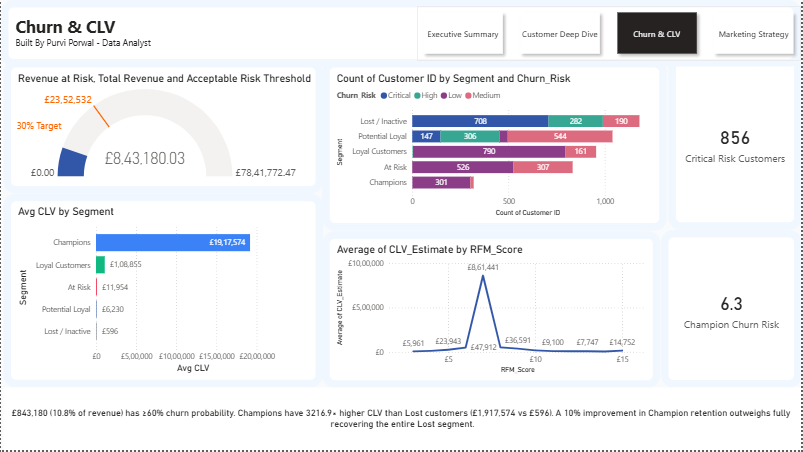

Layout of this report page (visuals, bound fields, positions):
{"tool":"powerbi","page":{"name":"Churn & CLV","canvas":[1280,720],"ordinal":2},"visuals":[{"type":"gauge","fields":{"Y":["Customer_RFM.Revenue at Risk"],"MaxValue":["Customer_RFM.Total Revenue"],"TargetValue":["Churn_Risk.Acceptable Risk Threshold"]},"box":[3.7,96.6,511.1,214],"z":0},{"type":"clusteredBarChart","fields":{"Y":["Customer_RFM.Avg CLV"],"Category":["Customer_RFM.Segment"]},"box":[3.7,310.6,511.1,309.4],"z":1000},{"type":"barChart","fields":{"Category":["Customer_RFM.Segment"],"Y":["CountNonNull(Customer_RFM.Customer ID)"],"Series":["Customer_RFM.Churn_Risk"]},"box":[514.8,96.6,551.5,272.7],"z":2000},{"type":"card","fields":{"Values":["Churn_Risk.Critical Risk Customers"]},"box":[1067.1,90.3,213.1,277.8],"z":3000},{"type":"lineChart","fields":{"Category":["Customer_RFM.RFM_Score"],"Y":["Avg(Customer_RFM.CLV_Estimate)"]},"box":[514.8,369.3,540.5,250.7],"z":4000},{"type":"textbox","box":[0,0,1280.3,106.4],"z":5000},{"type":"pageNavigator","box":[666.4,9.8,613.9,86.8],"z":6000},{"type":"card","fields":{"Values":["Churn_Risk.Avg Champion Churn %"]},"box":[1055.1,368.2,225,252.3],"z":7000},{"type":"textbox","box":[20.5,185.8,88.6,34.1],"z":8000},{"type":"card","fields":{"Values":["Churn_Risk.Insight_Page3"]},"box":[3.7,620,1276.6,100.3],"z":9000}]}

Visuals, with their boxes in screenshot pixels (x1, y1, x2, y2), scaled from the page's 1280x720 canvas onto the 803x452 screenshot:
gauge - Customer_RFM.Revenue at Risk x Customer_RFM.Total Revenue: <bbox>2, 61, 323, 195</bbox>
clusteredBarChart - Customer_RFM.Avg CLV x Customer_RFM.Segment: <bbox>2, 195, 323, 389</bbox>
barChart - Customer_RFM.Segment x CountNonNull(Customer_RFM.Customer ID): <bbox>323, 61, 669, 232</bbox>
card - Churn_Risk.Critical Risk Customers: <bbox>669, 57, 802, 231</bbox>
lineChart - Customer_RFM.RFM_Score x Avg(Customer_RFM.CLV_Estimate): <bbox>323, 232, 662, 389</bbox>
textbox: <bbox>0, 0, 802, 67</bbox>
pageNavigator: <bbox>418, 6, 802, 61</bbox>
card - Churn_Risk.Avg Champion Churn %: <bbox>662, 231, 802, 390</bbox>
textbox: <bbox>13, 117, 68, 138</bbox>
card - Churn_Risk.Insight_Page3: <bbox>2, 389, 802, 451</bbox>
